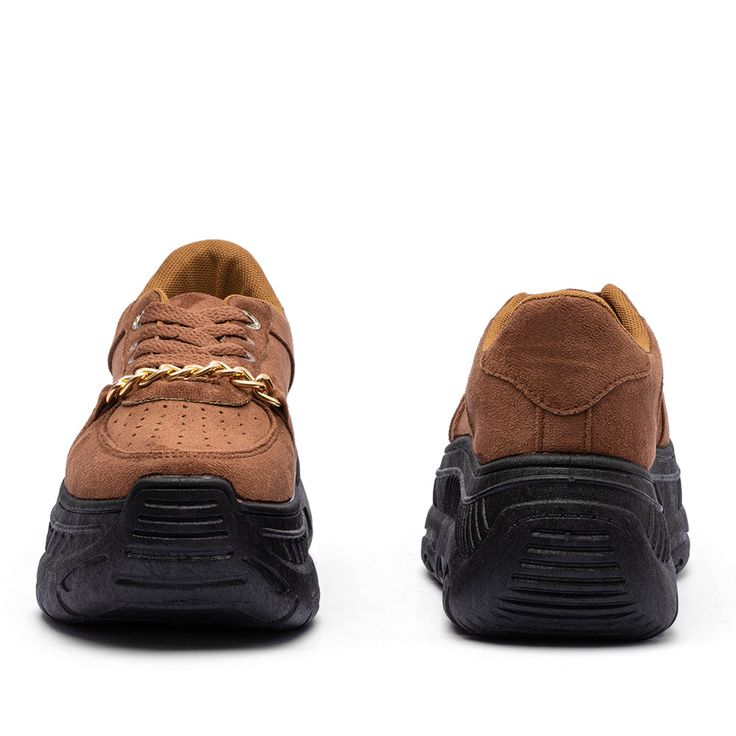gamuza: (64, 291, 671, 501)
